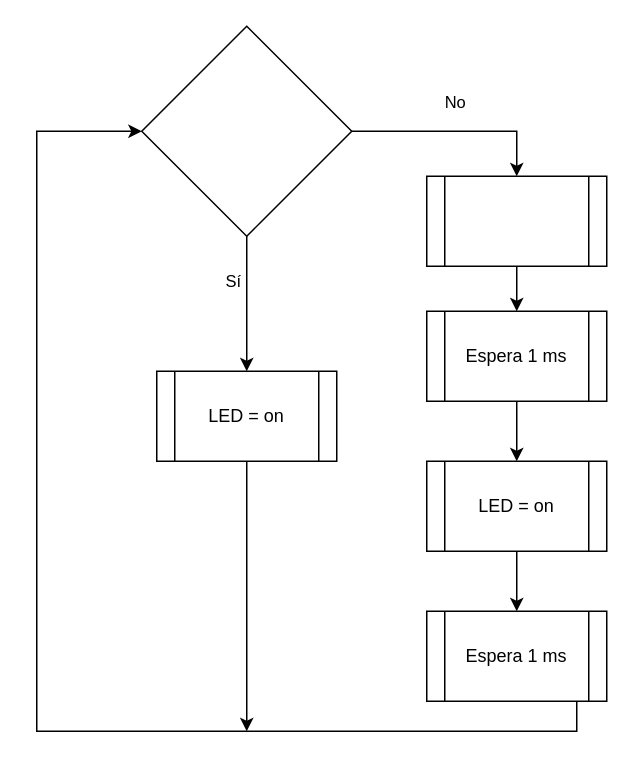
This 633x770 diagram has some shape labels left out. The shapes that lost their labels are listed below. From the top down, each one's box as (x1, y1, x2, y2) in pixels, then its label:
(140, 25, 352, 236): sgnl_barrera == on
(425, 175, 607, 266): LED = off
